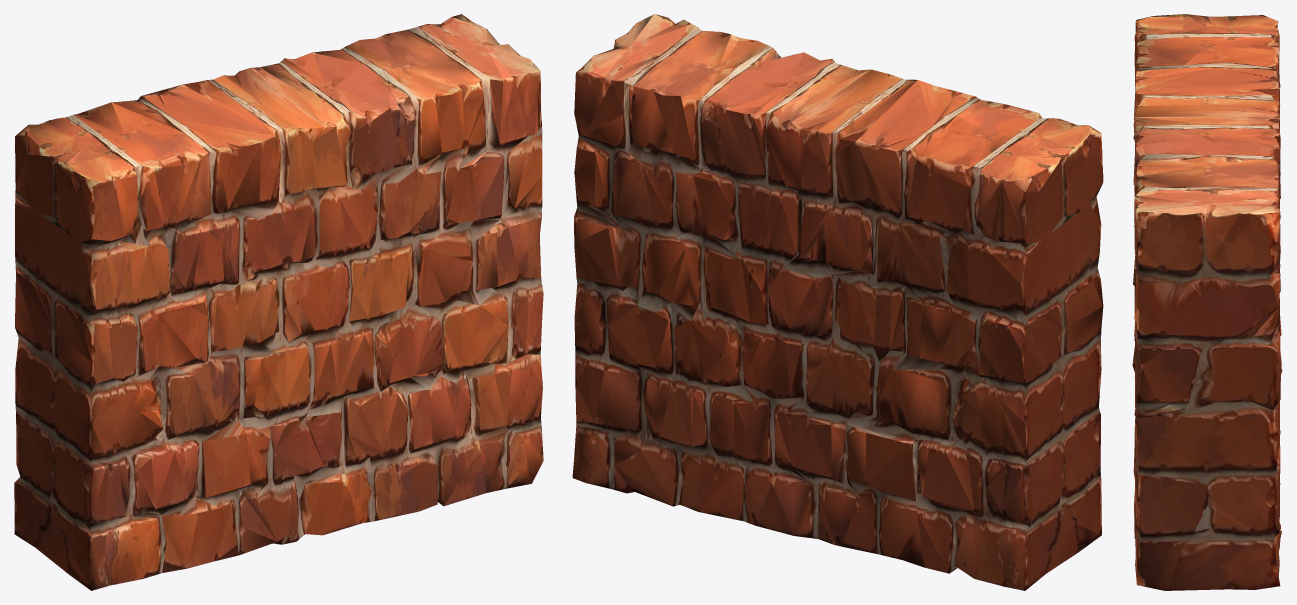
Rendered from wall.glb.
The picture shows the model from 3 angles, left to right: view 1: azimuth 30°, elevation 25°; view 2: azimuth 150°, elevation 25°; view 3: azimuth 270°, elevation 25°; orthographic projection. The views are drawn at different scales.
Parts seen in each view (by area): view 1: TripoWall_Mesh; view 2: TripoWall_Mesh; view 3: TripoWall_Mesh.
Boxes of the visible parts, x1,y1,x2,y2 form: TripoWall_Mesh: (14,14,543,590); TripoWall_Mesh: (572,14,1103,590); TripoWall_Mesh: (1132,14,1282,590).
Size of the model in its own units: 3.2 by 2.8 by 1.
Materials: 1 (1 with a texture image).
